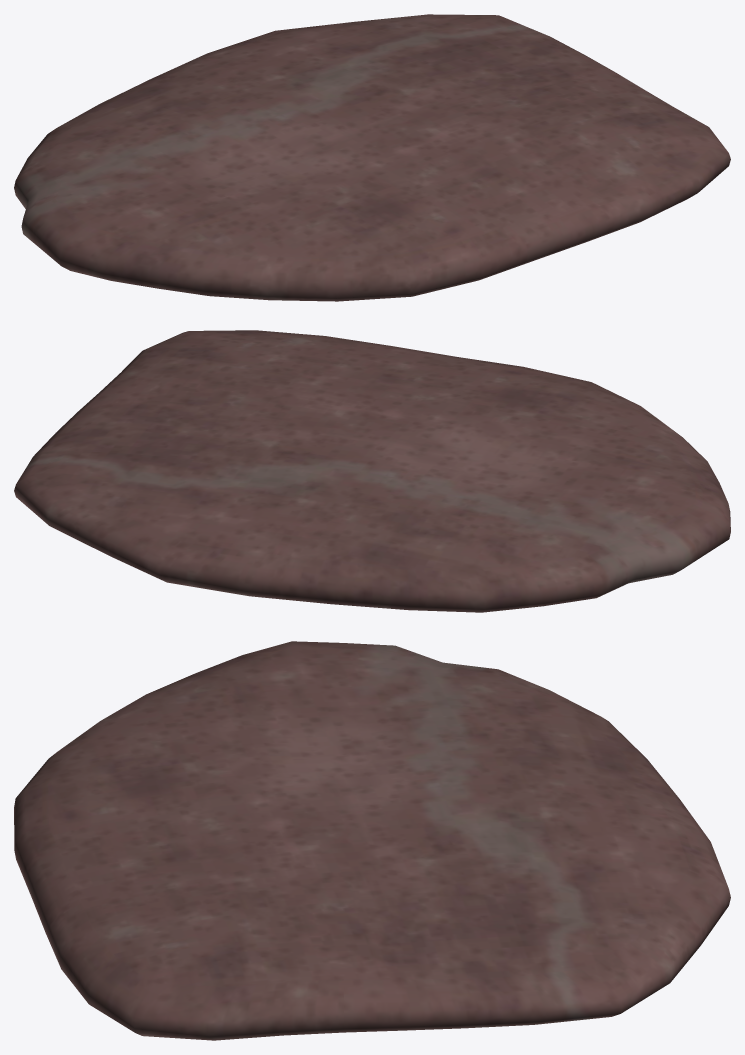
Rendered from small_wafer_08.glb.
3 views of the same model, one above another, from view 1: azimuth 30°, elevation 25°; view 2: azimuth 150°, elevation 25°; view 3: azimuth 270°, elevation 25° (orthographic). The views are drawn at different scales.
Parts seen in each view (by area): view 1: small_wafer_08; view 2: small_wafer_08; view 3: small_wafer_08.
Part boxes in pixels (left/top/right/bottom): small_wafer_08: left=14, top=14, right=730, bottom=301; small_wafer_08: left=14, top=330, right=730, bottom=612; small_wafer_08: left=14, top=641, right=730, bottom=1040.
Bounding box in the file's own units: 0.0529 × 0.0054 × 0.0429.
1 material, 1 textured.
